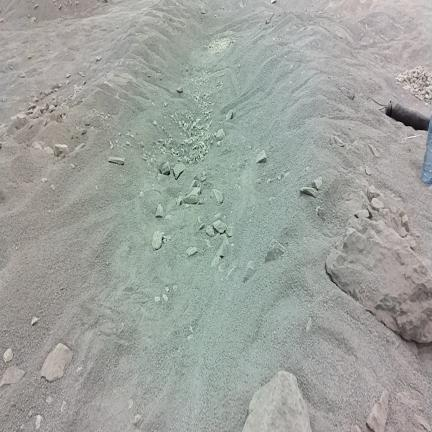Rock: (326, 218, 431, 342), (243, 371, 311, 431), (397, 67, 431, 103), (41, 344, 73, 381), (367, 391, 388, 431), (0, 367, 24, 388), (265, 240, 285, 262), (8, 113, 28, 134), (311, 412, 333, 431), (183, 187, 201, 204), (243, 260, 255, 282), (416, 415, 431, 431), (367, 186, 380, 201), (173, 163, 185, 179), (152, 231, 162, 250), (390, 214, 401, 231), (213, 220, 227, 233), (55, 144, 69, 157), (30, 106, 44, 119), (211, 189, 223, 204), (300, 187, 317, 197), (341, 87, 354, 100), (158, 161, 170, 175), (371, 198, 383, 211), (331, 136, 345, 147), (312, 177, 323, 190), (49, 112, 62, 123), (217, 243, 227, 257), (211, 255, 222, 267), (256, 150, 266, 163), (380, 209, 390, 222), (369, 144, 379, 157), (355, 209, 369, 218), (4, 348, 13, 362), (220, 233, 229, 247), (227, 266, 238, 277), (74, 143, 86, 153), (109, 157, 124, 165), (402, 215, 409, 232), (134, 414, 142, 428), (216, 129, 225, 141), (225, 226, 234, 237), (399, 227, 408, 238), (156, 204, 163, 217), (367, 205, 374, 218), (187, 247, 197, 256), (44, 146, 54, 155), (190, 179, 199, 189), (266, 13, 274, 24), (36, 415, 42, 429), (206, 226, 214, 236), (316, 207, 324, 217), (306, 318, 311, 333), (397, 209, 405, 218), (389, 204, 397, 213), (226, 110, 233, 120), (213, 212, 221, 220), (34, 142, 42, 150), (176, 197, 183, 206), (31, 317, 38, 326), (351, 425, 361, 431), (162, 294, 169, 302), (198, 223, 206, 230), (61, 401, 66, 412), (365, 166, 371, 175), (128, 399, 133, 409), (52, 83, 59, 90), (46, 396, 52, 404), (84, 120, 90, 127), (27, 410, 33, 417), (201, 6, 206, 14), (177, 87, 183, 93), (32, 97, 38, 103), (110, 141, 114, 149), (155, 296, 160, 302), (79, 72, 85, 77), (20, 72, 25, 77), (51, 184, 55, 190), (97, 56, 101, 61), (0, 18, 4, 23), (42, 178, 47, 182), (126, 141, 130, 146), (58, 4, 62, 9), (66, 73, 70, 78), (271, 0, 276, 3), (154, 120, 157, 125)
